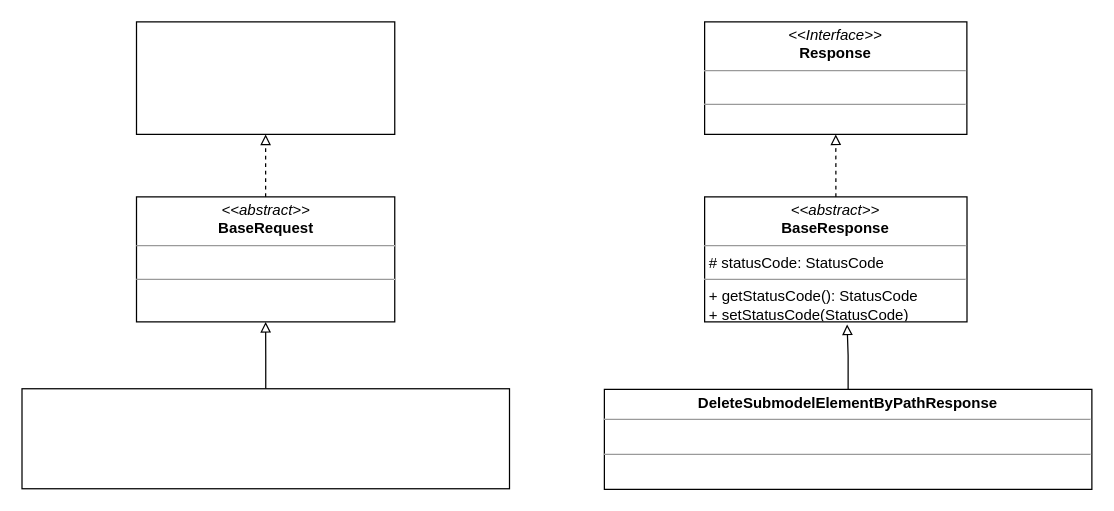
Some shapes in this 1114 by 511 pixel diagram are drawn without their labels. The shapes that lost their labels are listed below. From the top down, each one's centre as x and y in pixels, then its label:
At pixel 265 77: "<<Interface>> Request".
At pixel 265 438: "DeleteSubmodelElementByPathRequest - path: key[ ]".
